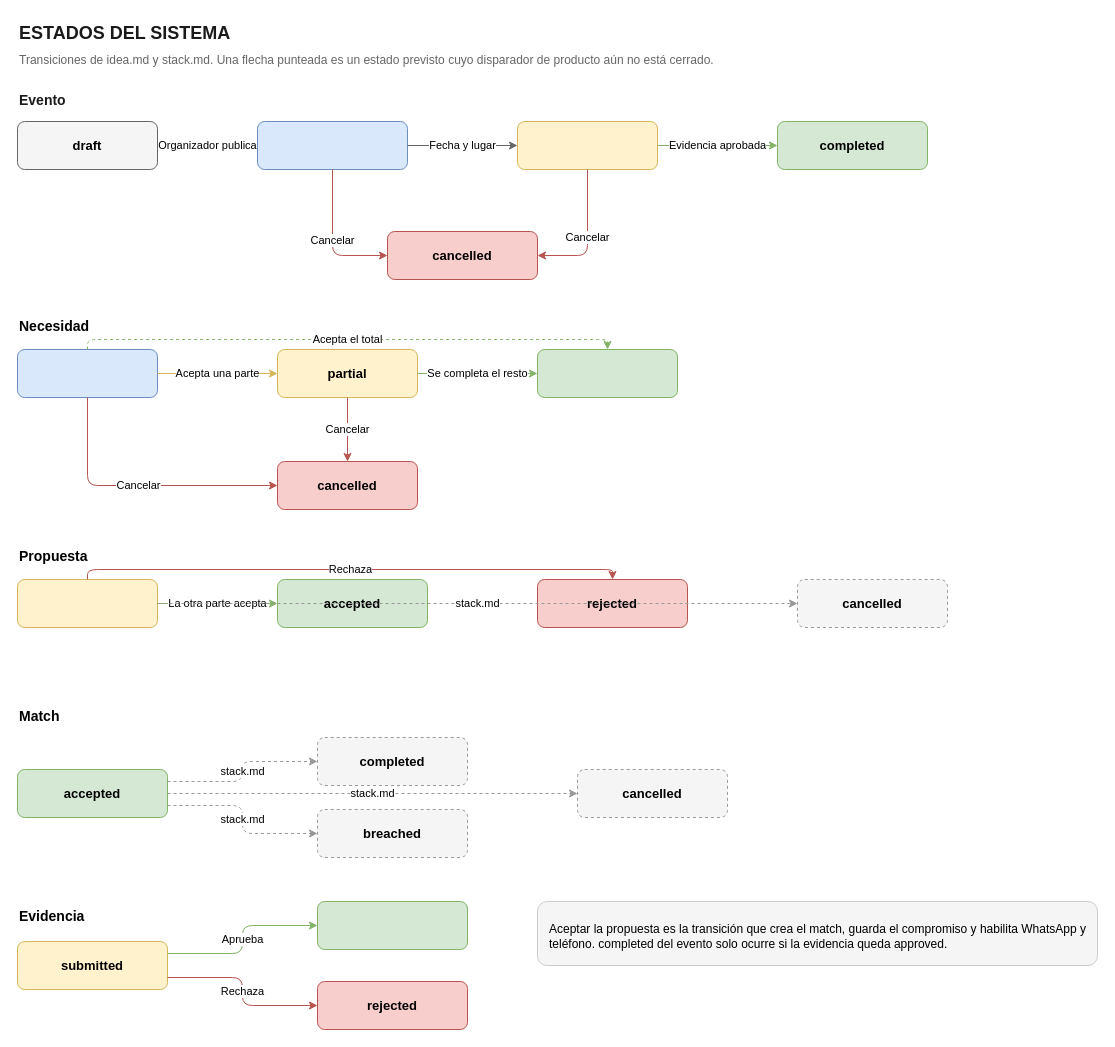
Image size: 1115x1047. Some labels were removed from this diagram. The shapes that lost their labels are listed below. From the top down, each one's centre as x and y in pixels, then its label:
pixel 332 145: published
pixel 587 145: public
pixel 87 373: open
pixel 607 373: covered
pixel 87 603: pending
pixel 392 925: approved
